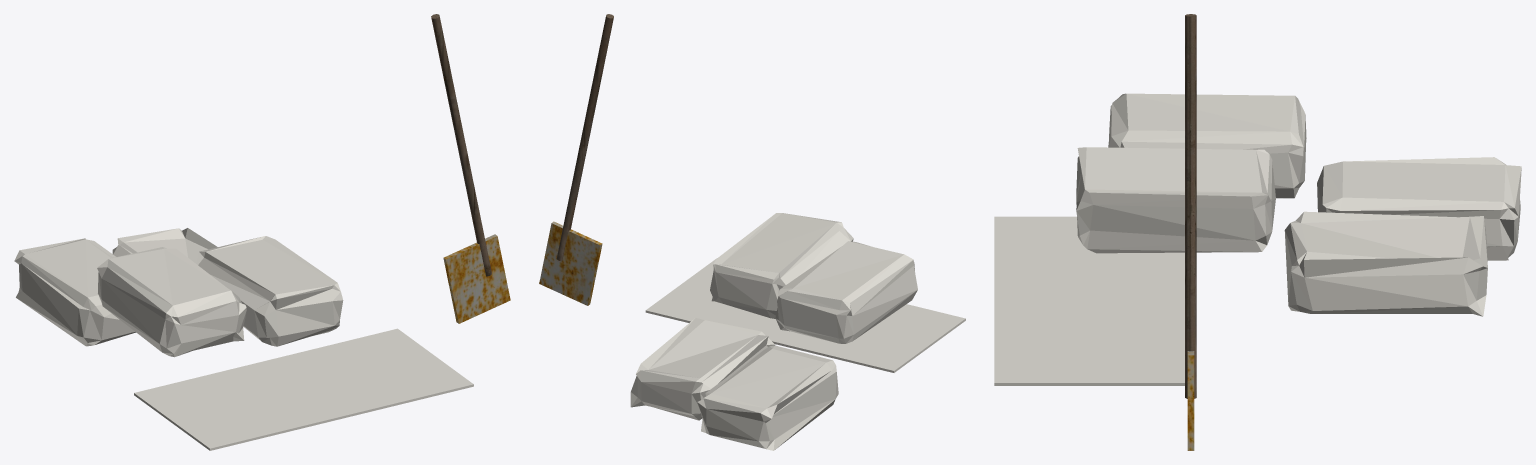
File: lime_and_shovel.glb
3 views of the same model, side by side, from view 1: azimuth 30°, elevation 25°; view 2: azimuth 150°, elevation 25°; view 3: azimuth 270°, elevation 25° (orthographic). The views are drawn at different scales.
Parts seen in each view (by area): view 1: lime_and_shovel; view 2: lime_and_shovel; view 3: lime_and_shovel.
Part boxes in pixels (<box>): lime_and_shovel: <box>14,14,510,450</box>; lime_and_shovel: <box>539,14,965,450</box>; lime_and_shovel: <box>994,14,1521,450</box>.
Bounding box in the file's own units: 1.71 × 1.36 × 1.61.
Materials: 3 (2 with a texture image).
